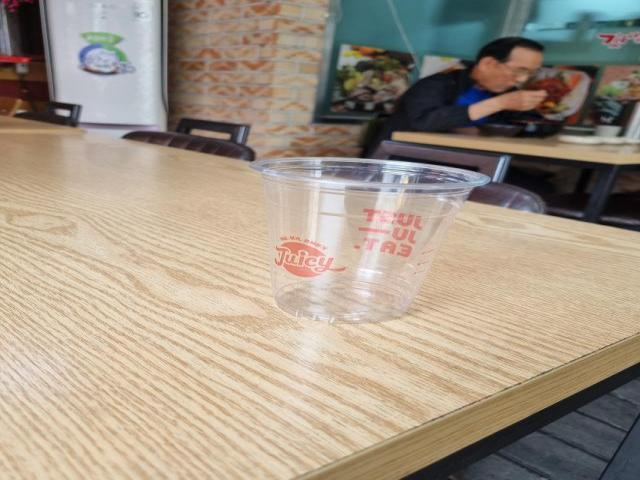cup: (243, 151, 498, 327)
